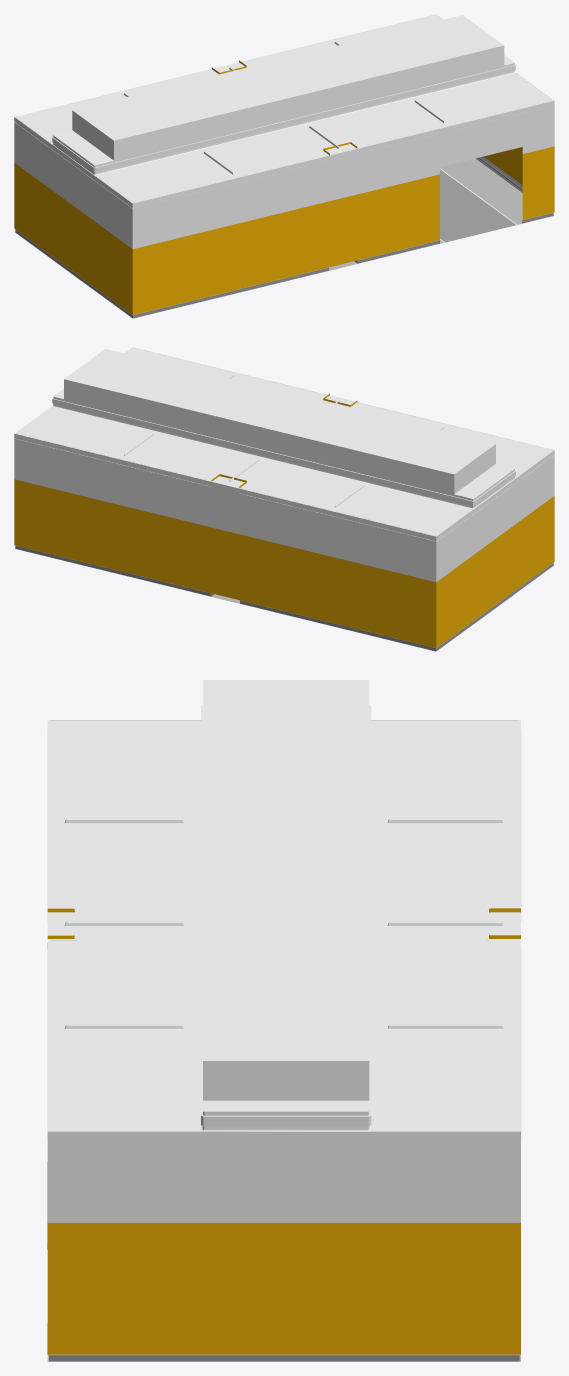
3 renders of one model, top to bottom at view 1: azimuth 30°, elevation 25°; view 2: azimuth 150°, elevation 25°; view 3: azimuth 270°, elevation 25°, orthographic. The views are drawn at different scales.
Visible parts, largest first — view 1: SM_H_Building_FutureTech_AssemblyArea_InterWall_05; view 2: SM_H_Building_FutureTech_AssemblyArea_InterWall_05; view 3: SM_H_Building_FutureTech_AssemblyArea_InterWall_05.
Part boxes in pixels (<box>): SM_H_Building_FutureTech_AssemblyArea_InterWall_05: <box>14,14,554,318</box>; SM_H_Building_FutureTech_AssemblyArea_InterWall_05: <box>14,347,554,651</box>; SM_H_Building_FutureTech_AssemblyArea_InterWall_05: <box>47,680,521,1361</box>.
Size of the model in its own units: 258 by 531 by 174.
